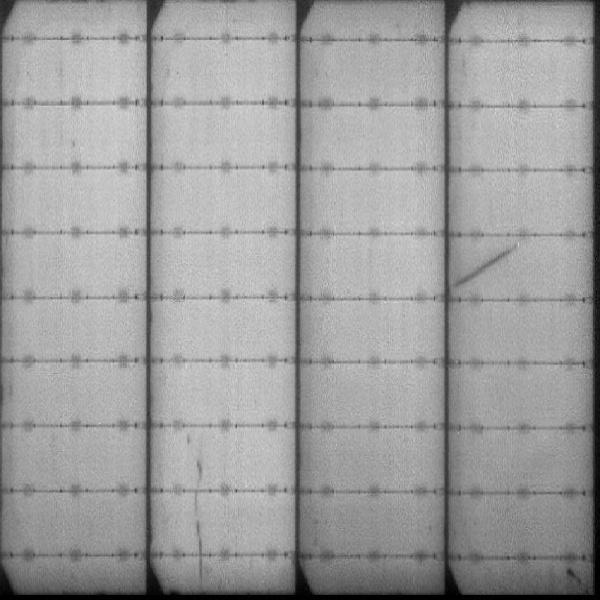scratch: (457, 245, 520, 286), (190, 459, 204, 581)
